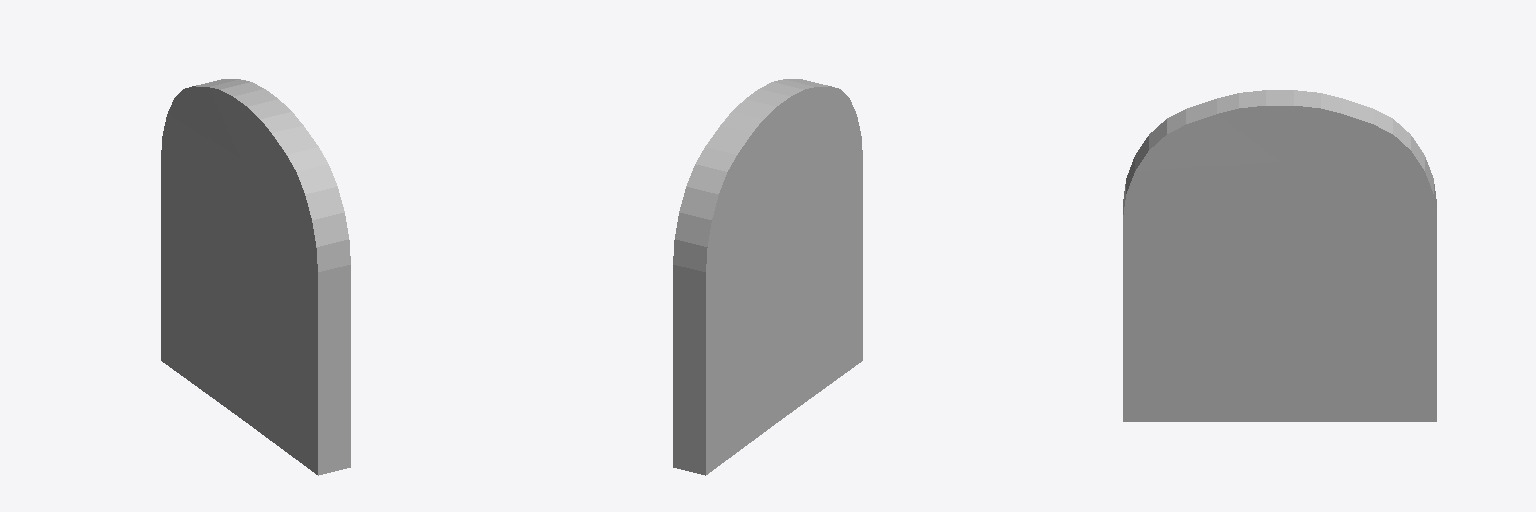
Rendered from RIP5.obj.
3 views of the same model, side by side, from view 1: azimuth 30°, elevation 25°; view 2: azimuth 150°, elevation 25°; view 3: azimuth 270°, elevation 25° (orthographic).
Parts seen in each view (by area): view 1: Cube_Cube.001; view 2: Cube_Cube.001; view 3: Cube_Cube.001.
Part boxes in pixels (x1,y1,x2,y2): Cube_Cube.001: (161, 79, 350, 475); Cube_Cube.001: (673, 79, 862, 475); Cube_Cube.001: (1123, 90, 1436, 421).
Size of the model in its own units: 0.1942 by 1.78 by 1.6.